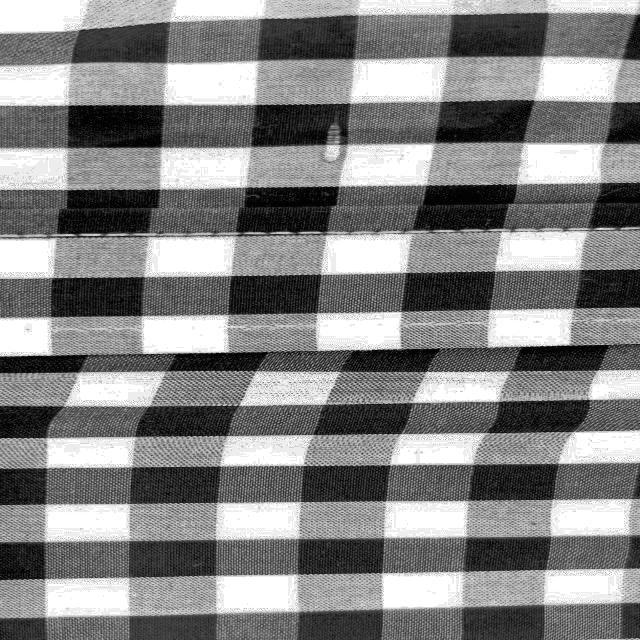Foreign_yarn: (308, 98, 359, 183)
